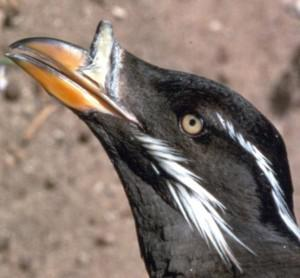008.Rhinoceros_Auklet: (5, 18, 299, 278)
